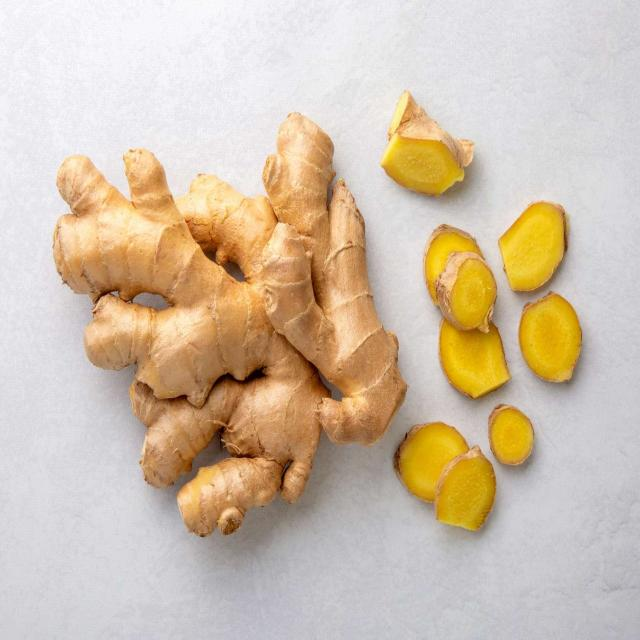ginger-root: (46, 100, 408, 534)
